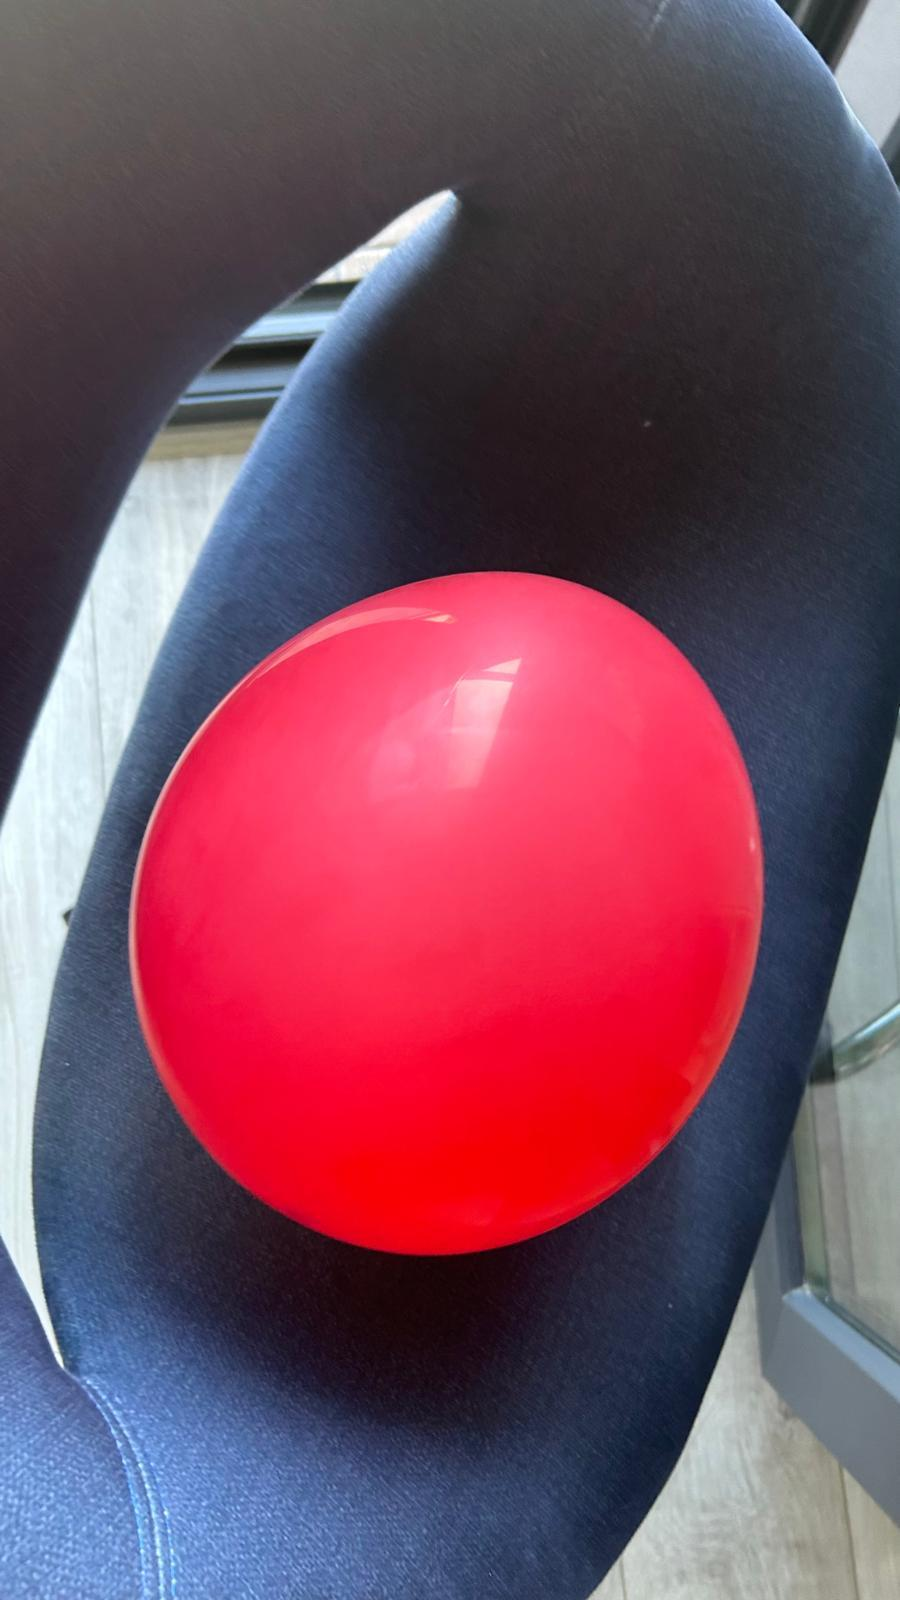red: (127, 557, 763, 1264)
